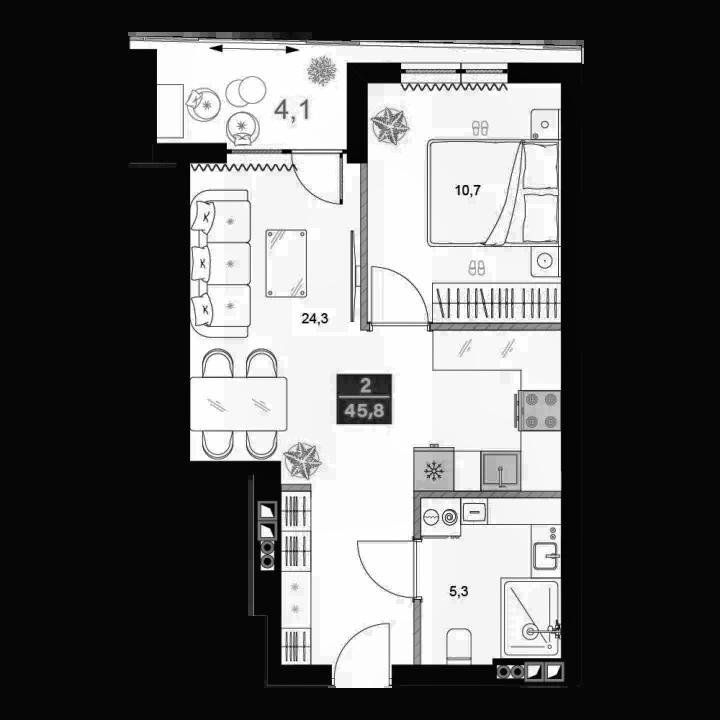door: (326, 619, 397, 690), (369, 261, 434, 335), (352, 538, 424, 603), (286, 143, 347, 207)
window: (399, 59, 508, 82), (223, 142, 286, 160)
